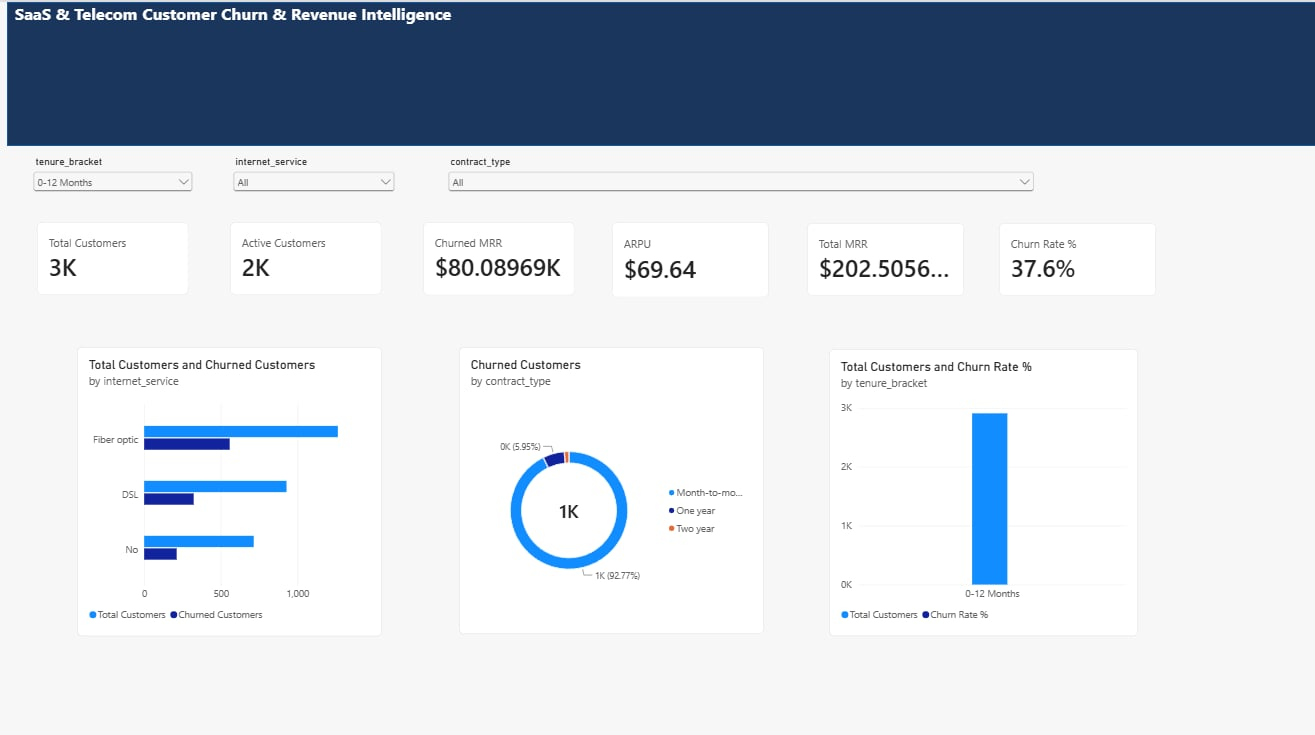

The dashboard page shown, as its layout file describes it:
{"tool":"powerbi","page":{"name":"Executive Overview","canvas":[1920,1080],"ordinal":0},"visuals":[{"type":"shape","box":[10.2,0,1909.8,210.1],"z":0},{"type":"textbox","box":[21.9,0,1873.3,192.6],"z":1000},{"type":"slicer","fields":{"Values":["telecom_customer_churn_with_predictions.contract_type"]},"box":[649.2,224.7,863.7,192.6],"z":2000},{"type":"slicer","fields":{"Values":["telecom_customer_churn_with_predictions.internet_service"]},"box":[335.6,224.7,245.1,192.6],"z":3000},{"type":"slicer","fields":{"Values":["telecom_customer_churn_with_predictions.tenure_bracket"]},"box":[43.8,224.7,242.2,210.1],"z":4000},{"type":"cardVisual","fields":{"Data":["_AllMeasures.Total Customers"]},"box":[54,321,221.8,106.5],"z":5000},{"type":"cardVisual","fields":{"Data":["_AllMeasures.Active Customers"]},"box":[335.6,321,221.8,106.5],"z":6000},{"type":"cardVisual","fields":{"Data":["_AllMeasures.Churn Rate %"]},"box":[1457.5,322.4,229.1,106.5],"z":7000},{"type":"cardVisual","fields":{"Data":["_AllMeasures.Churned MRR"]},"box":[617.1,321,221.8,108],"z":8000},{"type":"cardVisual","fields":{"Data":["_AllMeasures.ARPU"]},"box":[892.9,321,229.1,110.9],"z":9000},{"type":"cardVisual","fields":{"Data":["_AllMeasures.Total MRR"]},"box":[1177.4,322.4,229.1,106.5],"z":10000},{"type":"donutChart","fields":{"Category":["telecom_customer_churn_with_predictions.contract_type"],"Y":["_AllMeasures.Churned Customers"]},"box":[669.7,503.3,445,418.7],"z":11000},{"type":"clusteredBarChart","fields":{"Category":["telecom_customer_churn_with_predictions.internet_service"],"Y":["_AllMeasures.Total Customers","_AllMeasures.Churned Customers"]},"box":[112.3,503.3,445,421.6],"z":12000},{"type":"lineStackedColumnComboChart","fields":{"Category":["telecom_customer_churn_with_predictions.tenure_bracket"],"Y":["_AllMeasures.Total Customers","_AllMeasures.Churn Rate %"]},"box":[1209.5,506.3,450.8,418.7],"z":13000}]}

Visuals, with their boxes in screenshot pixels (x1, y1, x2, y2), scaled from the page's 1920x1080 canvas onto the 1315x735 screenshot:
shape: [x1=7, y1=0, x2=1314, y2=143]
textbox: [x1=15, y1=0, x2=1298, y2=131]
slicer - telecom_customer_churn_with_predictions.contract_type: [x1=445, y1=153, x2=1036, y2=284]
slicer - telecom_customer_churn_with_predictions.internet_service: [x1=230, y1=153, x2=398, y2=284]
slicer - telecom_customer_churn_with_predictions.tenure_bracket: [x1=30, y1=153, x2=196, y2=296]
cardVisual - _AllMeasures.Total Customers: [x1=37, y1=218, x2=189, y2=291]
cardVisual - _AllMeasures.Active Customers: [x1=230, y1=218, x2=382, y2=291]
cardVisual - _AllMeasures.Churn Rate %: [x1=998, y1=219, x2=1155, y2=292]
cardVisual - _AllMeasures.Churned MRR: [x1=423, y1=218, x2=575, y2=292]
cardVisual - _AllMeasures.ARPU: [x1=612, y1=218, x2=768, y2=294]
cardVisual - _AllMeasures.Total MRR: [x1=806, y1=219, x2=963, y2=292]
donutChart - telecom_customer_churn_with_predictions.contract_type x _AllMeasures.Churned Customers: [x1=459, y1=343, x2=763, y2=627]
clusteredBarChart - telecom_customer_churn_with_predictions.internet_service x _AllMeasures.Total Customers: [x1=77, y1=343, x2=382, y2=629]
lineStackedColumnComboChart - telecom_customer_churn_with_predictions.tenure_bracket x _AllMeasures.Total Customers: [x1=828, y1=345, x2=1137, y2=630]
